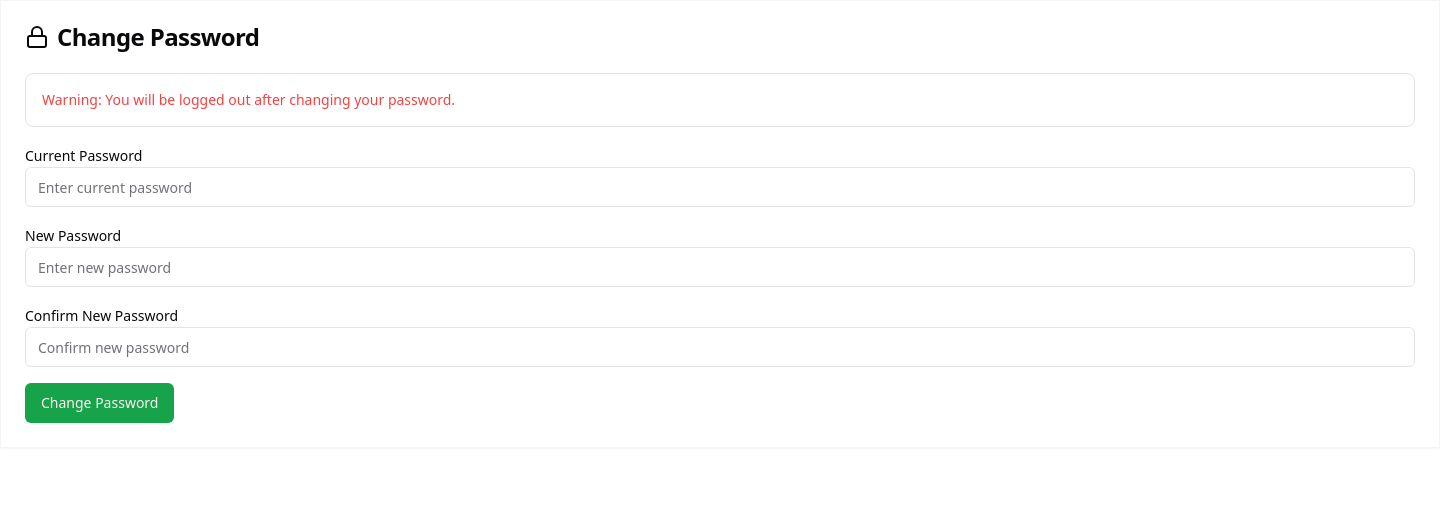
Test case: ChangePasswordForm › displays success message when password is changed successfully
In the password field labelled "Current Password": x=720, y=187 [25,167,1415,207], type "oldpass"
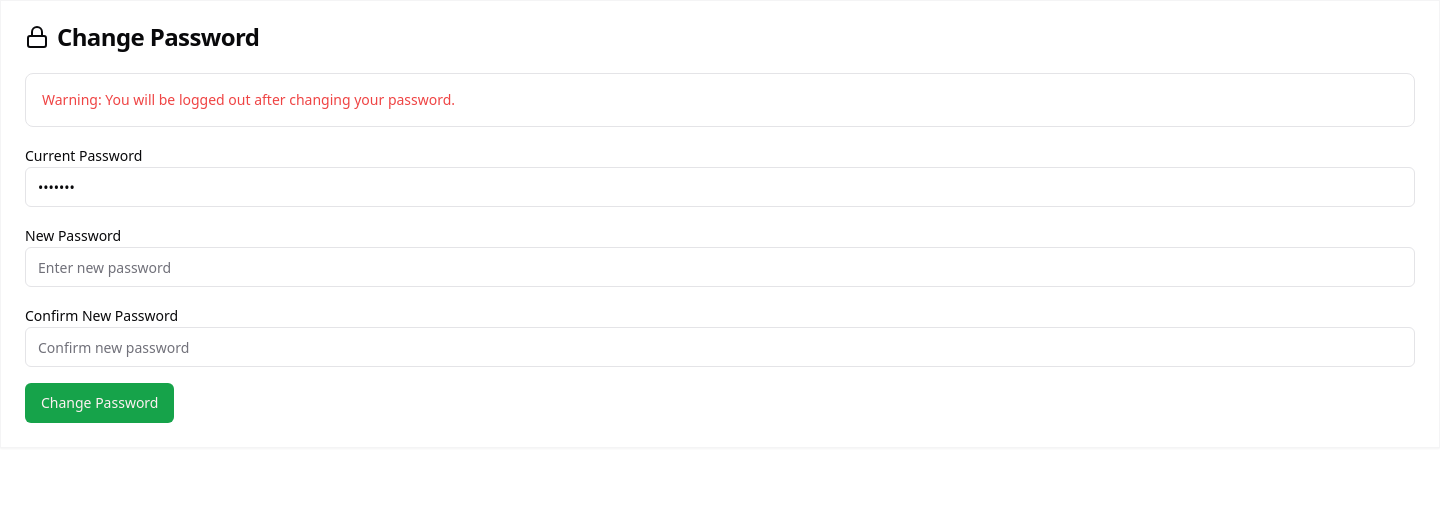
In the password field labelled "New Password": x=720, y=267 [25,247,1415,287], type "newpassword"
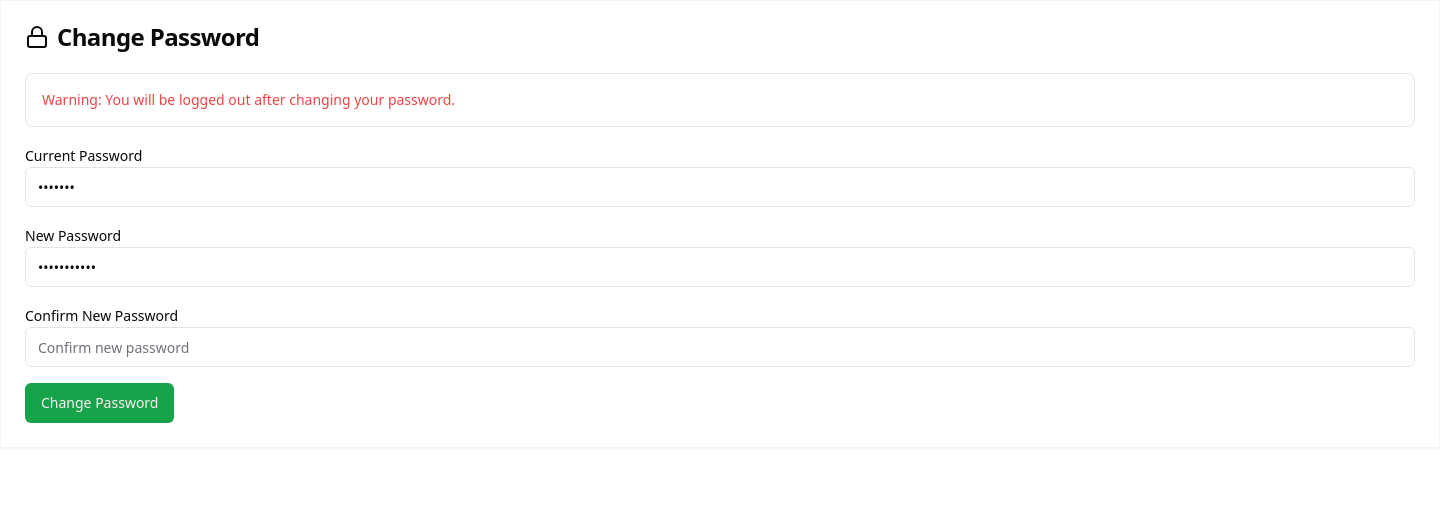
In the password field labelled "Confirm New Password": x=720, y=347 [25,327,1415,367], type "newpassword"
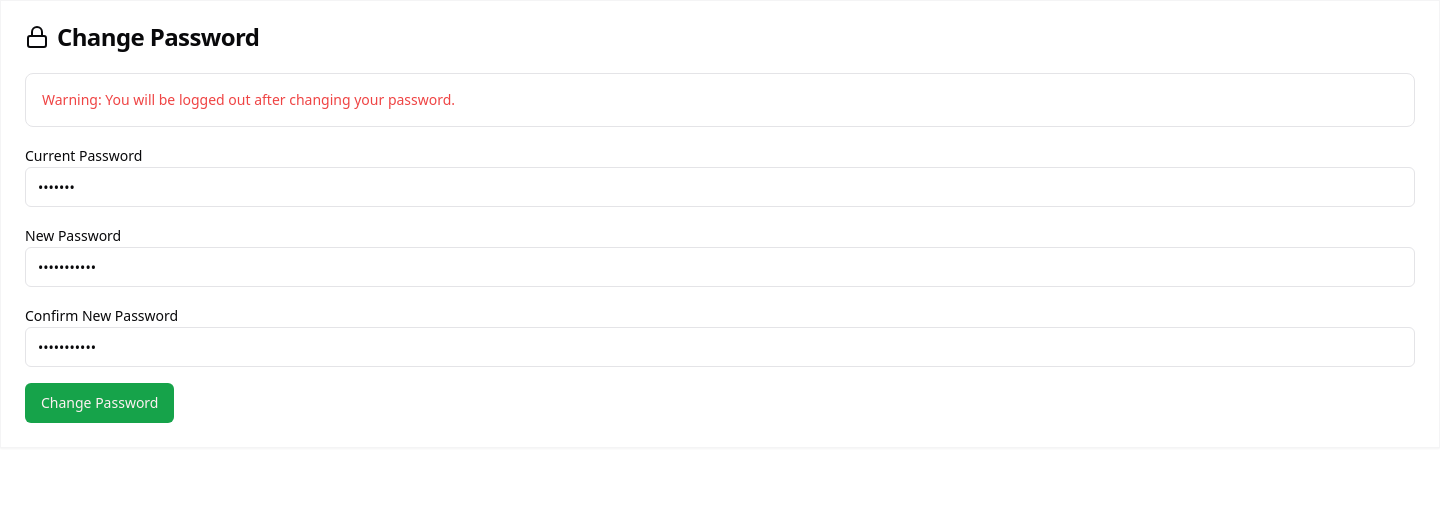
Click the button "Change Password": x=100, y=403 [25,383,174,423]
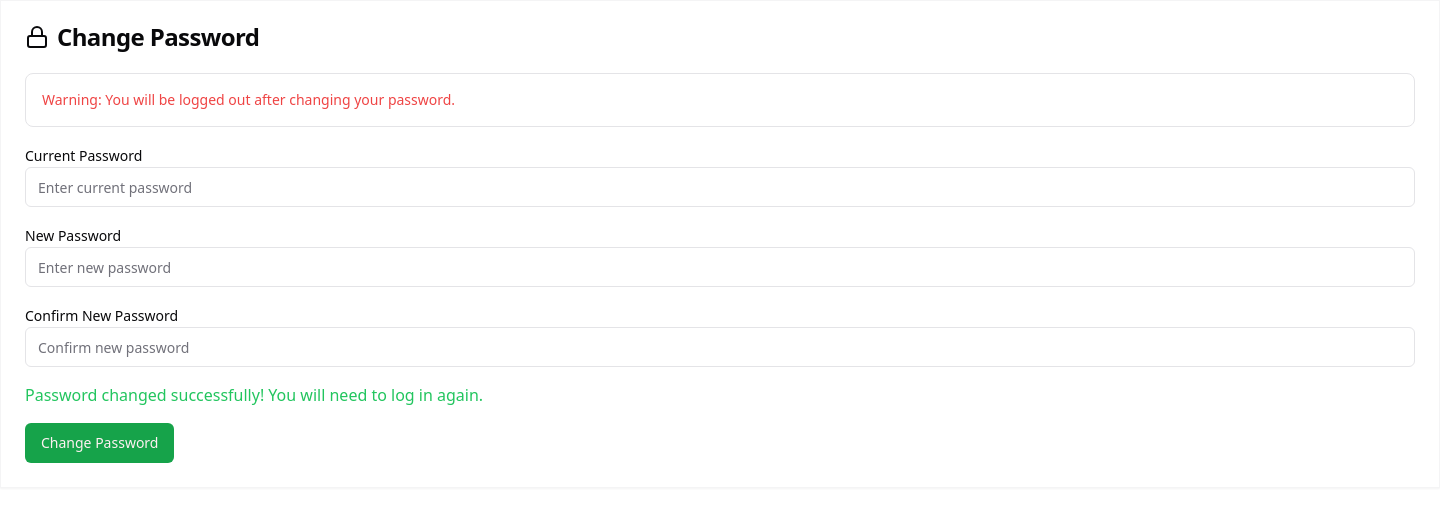
Check: the text "Password changed successfully! You will need to log in again." is shown, box [25,384,483,406]
